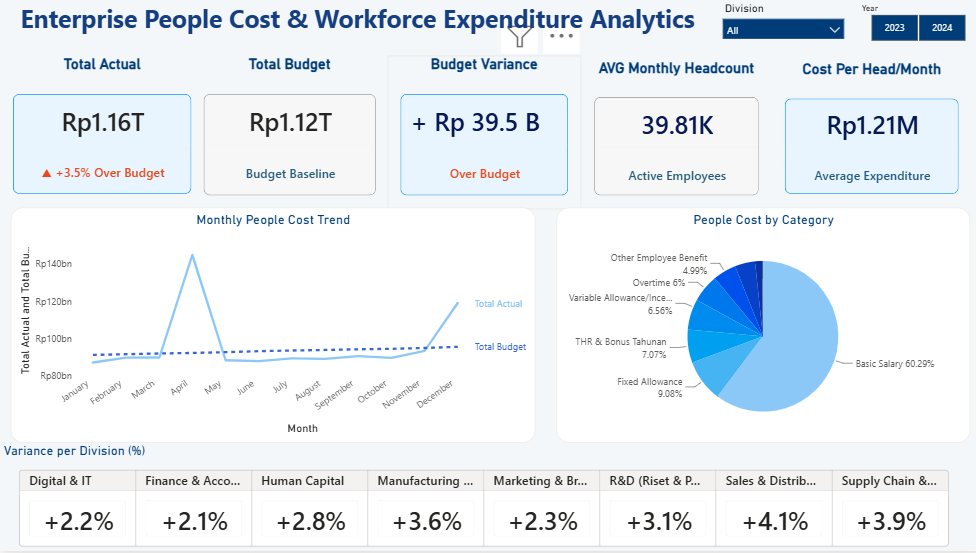

This screenshot's page, from the dashboard's own definition file:
{"tool":"powerbi","page":{"name":"Page 1","canvas":[1280,720],"ordinal":0},"visuals":[{"type":"cardVisual","title":"Total Actual","fields":{"Data":["fmcg_workforce_cost_dataset.Total Actual"]},"box":[0,75.2,266,198],"z":0},{"type":"cardVisual","title":"Total Budget","fields":{"Data":["fmcg_workforce_cost_dataset.Total Budget"]},"box":[247.4,75.2,258,200],"z":1000},{"type":"cardVisual","title":"Budget Variance","fields":{"Data":["fmcg_workforce_cost_dataset.Total Variance"]},"box":[504.6,75.2,252,200],"z":2000},{"type":"cardVisual","title":"AVG Monthly Headcount","fields":{"Data":["fmcg_workforce_cost_dataset.Total Headcount"]},"box":[755.9,79.2,248,196],"z":3000},{"type":"cardVisual","title":"Cost Per Head/Month","fields":{"Data":["fmcg_workforce_cost_dataset.Cost per Headcount"]},"box":[1003.3,81.1,260,192],"z":4000},{"type":"textbox","box":[0,0,930.1,55.4],"z":5000},{"type":"lineChart","title":"Monthly People Cost Trend","fields":{"Category":["fmcg_workforce_cost_dataset.Date.Variation.Date Hierarchy.Month"],"Y":["fmcg_workforce_cost_dataset.Total Actual","fmcg_workforce_cost_dataset.Total Budget"]},"box":[13.9,273.1,682,306],"z":6000},{"type":"pieChart","title":"People Cost by Category","fields":{"Y":["Sum(fmcg_workforce_cost_dataset.Actual_IDR)"],"Category":["fmcg_workforce_cost_dataset.Category"]},"box":[724.3,273.1,538,306],"z":7000},{"type":"cardVisual","title":"Variance per Division (%)","fields":{"Rows":["fmcg_workforce_cost_dataset.Division"],"Data":["fmcg_workforce_cost_dataset.Variance Pct Display"]},"box":[0,580,1264,140],"z":8000},{"type":"slicer","fields":{"Values":["fmcg_workforce_cost_dataset.Year"]},"box":[1108.5,1.9,171.7,61.3],"z":9000},{"type":"slicer","fields":{"Values":["fmcg_workforce_cost_dataset.Division"]},"box":[930,0,178.3,54.7],"z":10000}]}

Visuals, with their boxes in screenshot pixels (x1, y1, x2, y2), scaled from the page's 1280x720 canvas onto the 976x553 screenshot:
"Total Actual" cardVisual: bbox(0, 58, 203, 210)
"Total Budget" cardVisual: bbox(189, 58, 385, 211)
"Budget Variance" cardVisual: bbox(385, 58, 577, 211)
"AVG Monthly Headcount" cardVisual: bbox(576, 61, 765, 211)
"Cost Per Head/Month" cardVisual: bbox(765, 62, 963, 210)
textbox: bbox(0, 0, 709, 43)
"Monthly People Cost Trend" lineChart: bbox(11, 210, 531, 445)
"People Cost by Category" pieChart: bbox(552, 210, 963, 445)
"Variance per Division (%)" cardVisual: bbox(0, 445, 964, 552)
slicer - fmcg_workforce_cost_dataset.Year: bbox(845, 1, 975, 49)
slicer - fmcg_workforce_cost_dataset.Division: bbox(709, 0, 845, 42)
